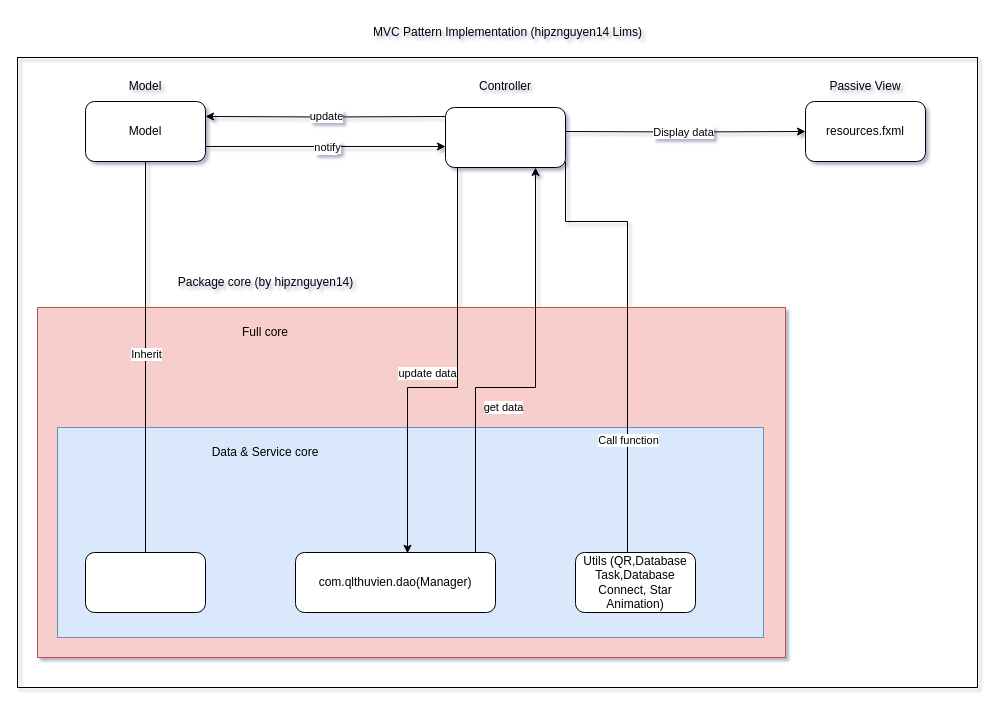
Some shapes in this 1001 by 711 pixel diagram are drawn without their labels. The centre of each missing label's shape, as x and y in pixels:
"com.qlthuvien.admin controller" goes at point (505, 137).
"com.qlthuvien.model" goes at point (145, 582).
